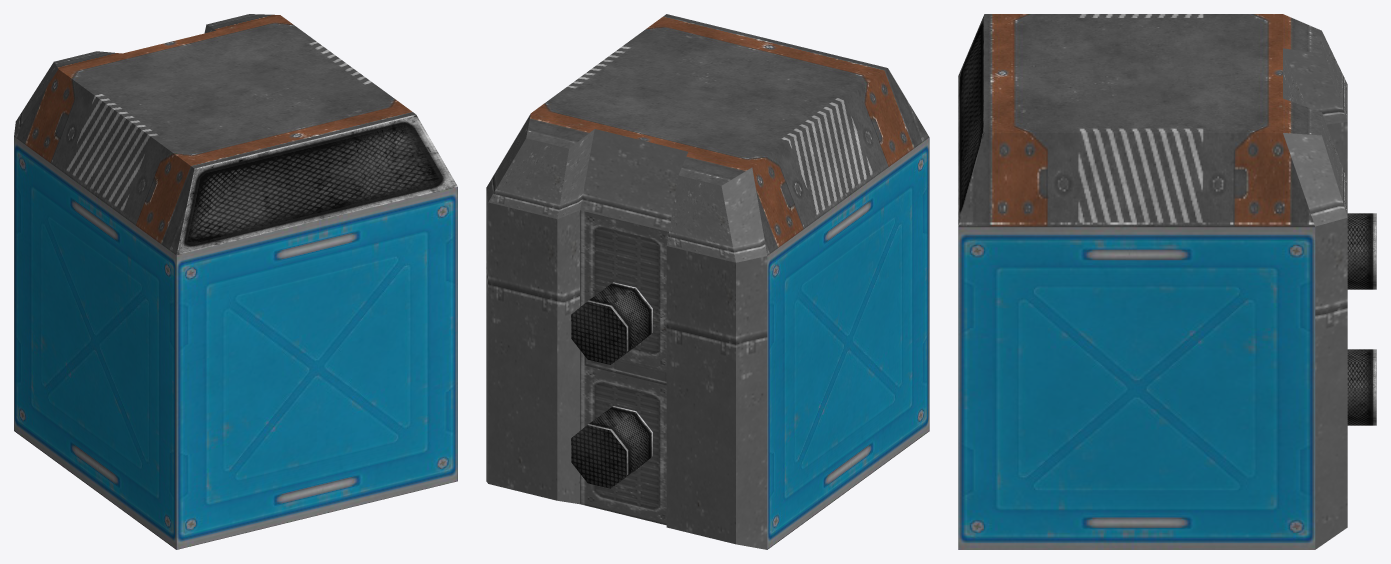
Rendered from Generator_03.fbx.
3 views of the same model, side by side, from view 1: azimuth 30°, elevation 25°; view 2: azimuth 150°, elevation 25°; view 3: azimuth 270°, elevation 25° (orthographic). The views are drawn at different scales.
Parts seen in each view (by area): view 1: Generator_03; view 2: Generator_03; view 3: Generator_03.
Boxes of the visible parts, x1,y1,x2,y2 form: Generator_03: [14, 14, 457, 549]; Generator_03: [486, 14, 929, 549]; Generator_03: [958, 14, 1376, 549].
Size of the model in its own units: 47.4 by 58.8 by 55.56.
